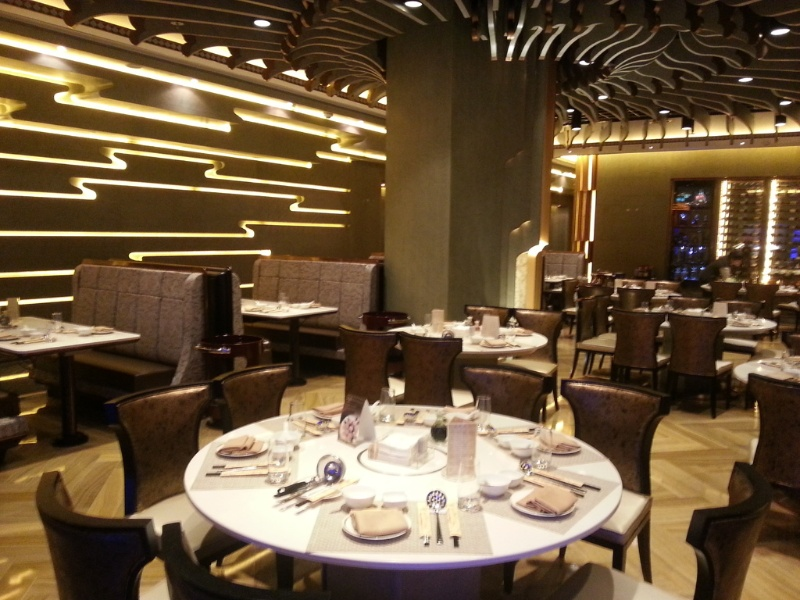dining table: (138, 345, 636, 600)
